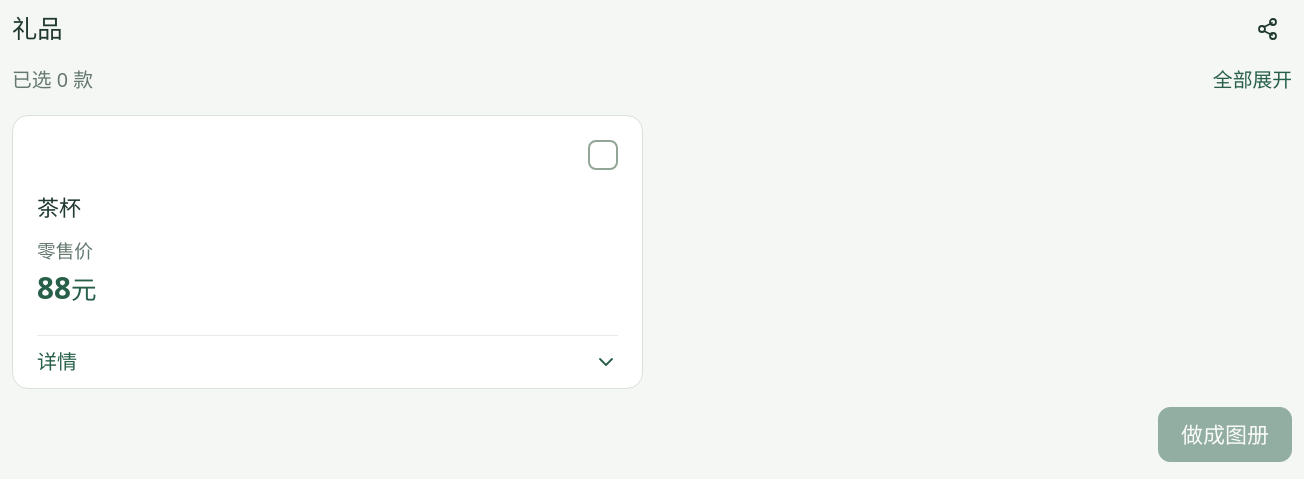
Test: quiet, stable interaction › selection is immediate and details stay collapsed until requested
Step 1. Click the checkbox → (603, 155), box [588, 140, 618, 170]
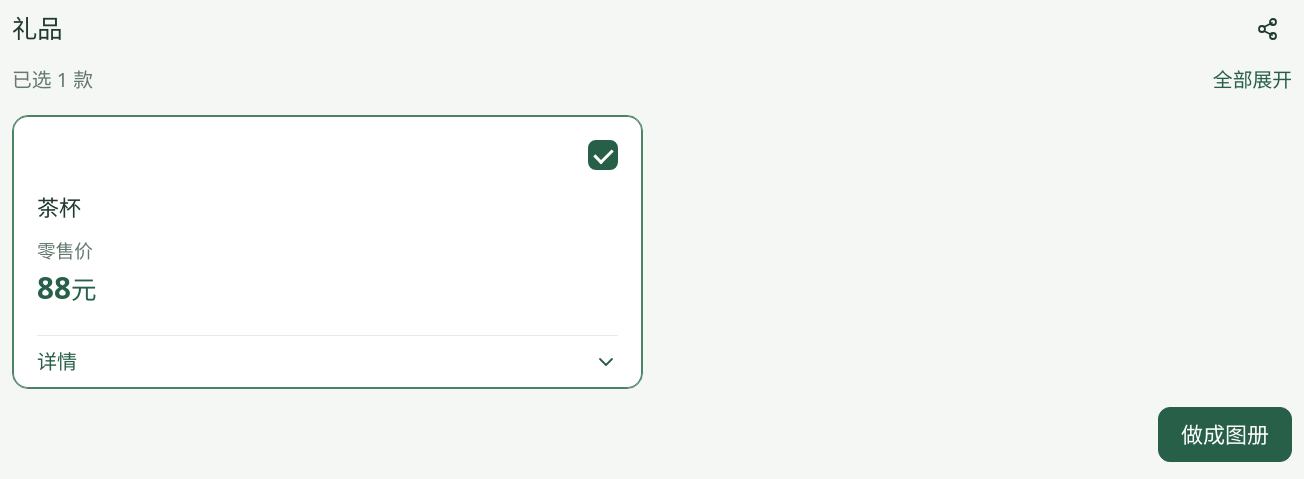
Check: the checkbox is checked, box [588, 140, 618, 170]
Check: the text "已选 1 款" is shown, box [12, 64, 93, 96]
